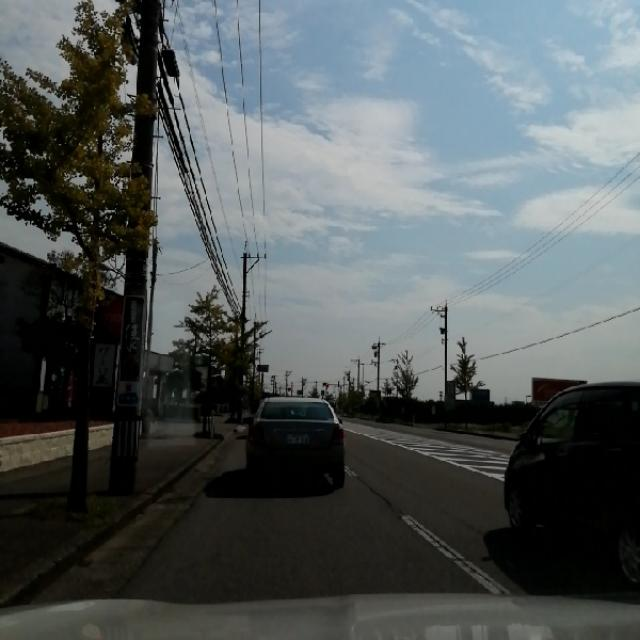pothole: (403, 507, 518, 588)
